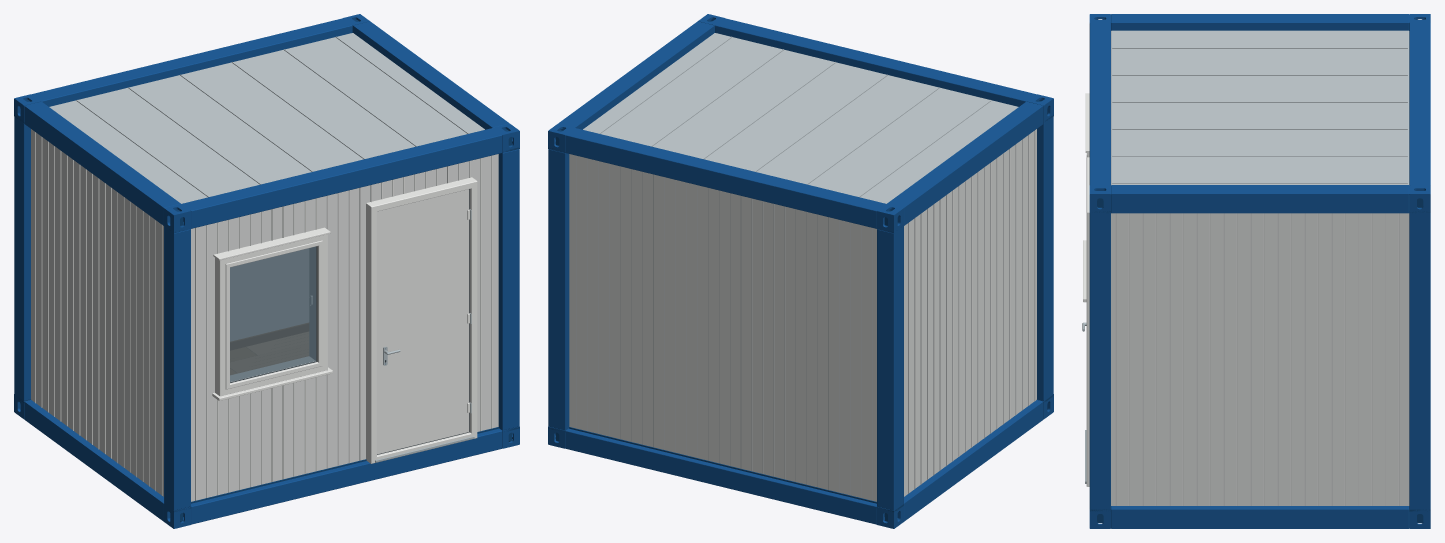
Rendered from buero-3m.glb.
3 views of the same model, side by side, from view 1: azimuth 30°, elevation 25°; view 2: azimuth 150°, elevation 25°; view 3: azimuth 270°, elevation 25° (orthographic). The views are drawn at different scales.
Parts seen in each view (by area): view 1: Light grey insulated wall panels, Blue powder-coated steel, Galvanised roof sheet, White bevelled PVC joinery, White steel door leaf, Blue-grey clear glazing, Fine panel joints, Oak flooring tone 2, Recessed blue steel edges, Oak coloured skirting, Glazing and door gaskets, Oak flooring tone 7; view 2: Light grey insulated wall panels, Blue powder-coated steel, Galvanised roof sheet, Fine panel joints, White bevelled PVC joinery, Recessed blue steel edges; view 3: Light grey insulated wall panels, Galvanised roof sheet, Blue powder-coated steel, White bevelled PVC joinery, Fine panel joints.
Part boxes in pixels (box(x1,y1,x2,y2)): Light grey insulated wall panels: box(31, 129, 498, 501); Blue powder-coated steel: box(14, 14, 519, 528); Galvanised roof sheet: box(49, 33, 484, 203); White bevelled PVC joinery: box(35, 132, 492, 500); White steel door leaf: box(377, 189, 469, 454); Blue-grey clear glazing: box(230, 246, 316, 381); Fine panel joints: box(35, 132, 491, 500); Oak flooring tone 2: box(230, 343, 308, 372); Recessed blue steel edges: box(14, 20, 519, 521); Oak coloured skirting: box(230, 323, 308, 350); Glazing and door gaskets: box(230, 189, 469, 454); Oak flooring tone 7: box(247, 332, 308, 354); Light grey insulated wall panels: box(569, 129, 1036, 501); Blue powder-coated steel: box(548, 14, 1053, 528); Galvanised roof sheet: box(583, 33, 1018, 203); Fine panel joints: box(576, 130, 1035, 500); White bevelled PVC joinery: box(908, 130, 1035, 493); Recessed blue steel edges: box(548, 20, 1053, 521); Light grey insulated wall panels: box(1111, 213, 1409, 505); Galvanised roof sheet: box(1111, 30, 1409, 185); Blue powder-coated steel: box(1089, 14, 1430, 528); White bevelled PVC joinery: box(1083, 93, 1398, 505); Fine panel joints: box(1115, 213, 1399, 505).
Bounding box in the file's own units: 3 × 2.6 × 2.45.
